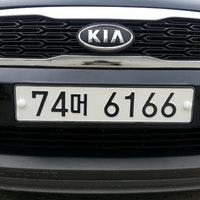plate: (15, 86, 190, 121)
